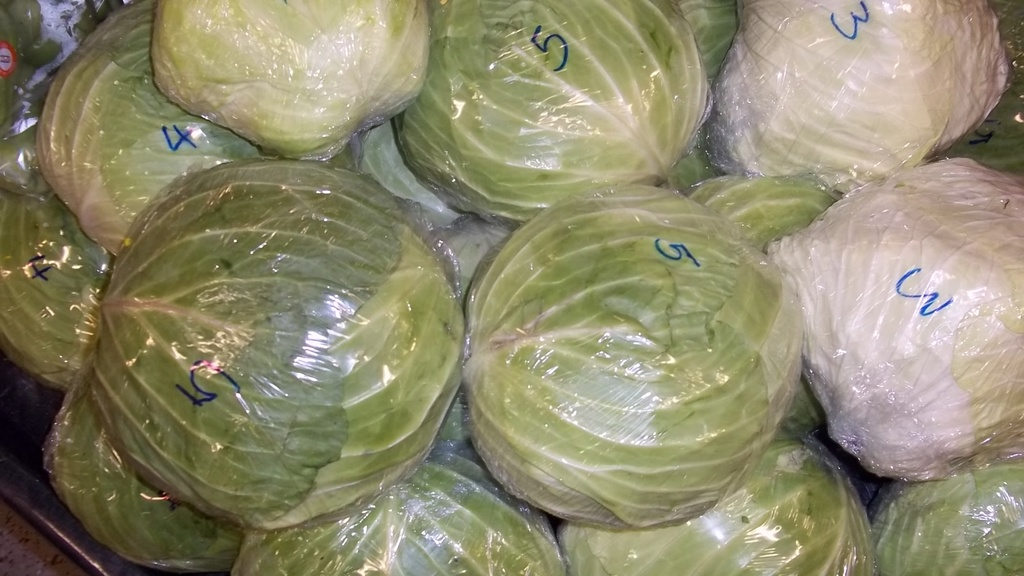Cabbage: (0, 0, 1023, 575)
